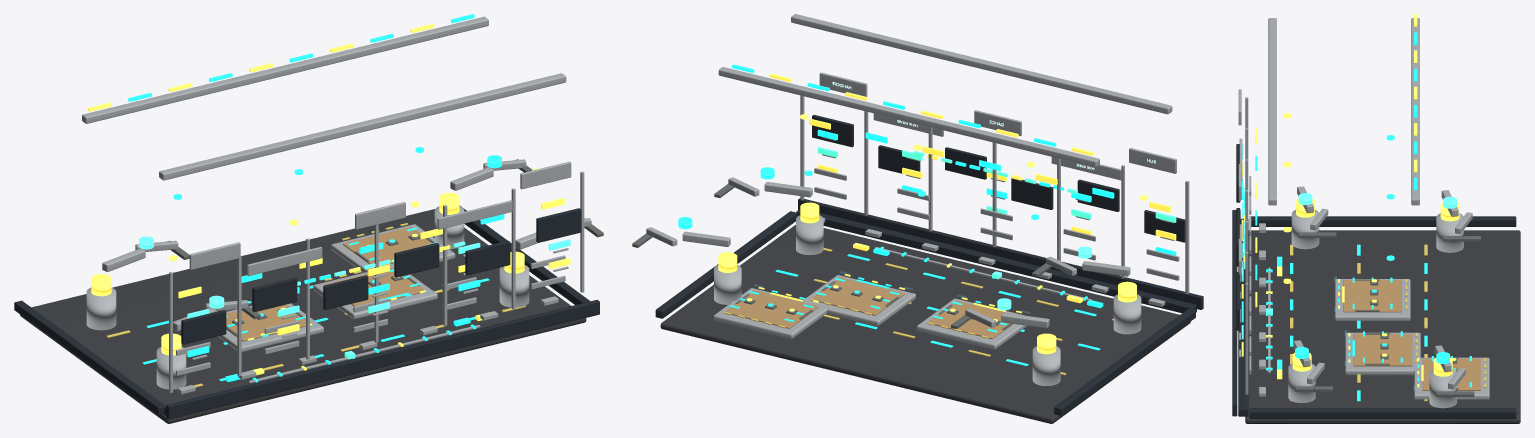
Rendered from robotics-training-lab-blender.glb.
3 views of the same model, side by side, from view 1: azimuth 30°, elevation 25°; view 2: azimuth 150°, elevation 25°; view 3: azimuth 270°, elevation 25° (orthographic). The views are drawn at different scales.
Visible parts, largest first — view 1: single authored robotics training floor, rear low instrumented equipment plinth, overhead motion-capture rail rear, overhead motion-capture rail front, left low cutaway curb, authored rubber task pad 2, right low cutaway curb, authored rubber task pad 0, authored stage plinth 1, rear floating acoustic tile 4, rear floating acoustic tile 0, rear floating acoustic tile 3 (+19 smaller); view 2: single authored robotics training floor, overhead motion-capture rail front, overhead motion-capture rail rear, rear low acoustic curb, rear low instrumented equipment plinth, left low cutaway curb, authored rubber task pad 1, authored rubber task pad 2, right low cutaway curb, authored stage plinth 2, authored stage plinth 0, authored stage plinth 1 (+17 smaller); view 3: single authored robotics training floor, right low cutaway curb, left low cutaway curb, authored rubber task pad 1, authored rubber task pad 0, overhead motion-capture rail rear, authored stage plinth 0, overhead motion-capture rail front, authored stage plinth 1, rear low acoustic curb, rear low instrumented equipment plinth, authored rubber task pad 2 (+6 smaller).
Boxes of the visible parts, <box> form: single authored robotics training floor: <box>20,209,586,423</box>; rear low instrumented equipment plinth: <box>166,300,599,419</box>; overhead motion-capture rail rear: <box>159,73,566,180</box>; overhead motion-capture rail front: <box>82,16,488,123</box>; left low cutaway curb: <box>14,300,165,415</box>; authored rubber task pad 2: <box>343,227,439,266</box>; right low cutaway curb: <box>459,205,590,304</box>; authored rubber task pad 0: <box>226,304,311,341</box>; authored stage plinth 1: <box>313,265,437,319</box>; rear floating acoustic tile 4: <box>465,240,510,275</box>; rear floating acoustic tile 0: <box>181,310,226,344</box>; rear floating acoustic tile 3: <box>394,243,439,277</box>; single authored robotics training floor: <box>660,225,1190,423</box>; overhead motion-capture rail front: <box>718,67,1099,167</box>; overhead motion-capture rail rear: <box>791,14,1172,114</box>; rear low acoustic curb: <box>796,209,1196,313</box>; rear low instrumented equipment plinth: <box>798,198,1203,309</box>; left low cutaway curb: <box>1054,308,1195,415</box>; authored rubber task pad 1: <box>811,277,904,315</box>; authored rubber task pad 2: <box>725,290,818,328</box>; right low cutaway curb: <box>655,211,797,318</box>; authored stage plinth 2: <box>713,288,826,339</box>; authored stage plinth 0: <box>916,298,1027,349</box>; authored stage plinth 1: <box>801,275,915,326</box>; single authored robotics training floor: <box>1245,230,1520,423</box>; right low cutaway curb: <box>1249,408,1516,418</box>; left low cutaway curb: <box>1251,216,1516,226</box>; authored rubber task pad 1: <box>1353,334,1412,366</box>; authored rubber task pad 0: <box>1343,280,1401,312</box>; overhead motion-capture rail rear: <box>1268,18,1276,205</box>; authored stage plinth 0: <box>1334,279,1410,321</box>; overhead motion-capture rail front: <box>1411,18,1419,205</box>; authored stage plinth 1: <box>1345,332,1420,375</box>; rear low acoustic curb: <box>1238,218,1248,416</box>; rear low instrumented equipment plinth: <box>1232,210,1237,416</box>; authored rubber task pad 2: <box>1422,358,1480,390</box>.
Bounding box in the file's own units: 5.97 × 2.92 × 3.35.
